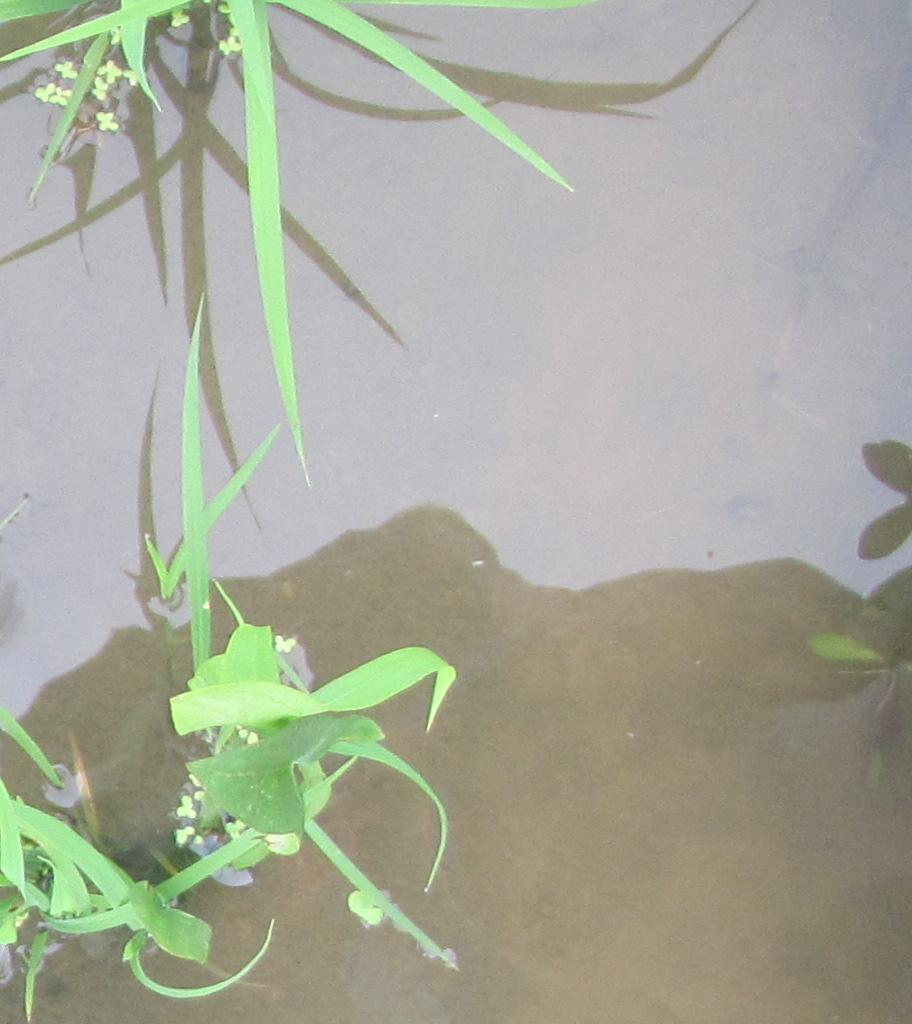Weed: (161, 628, 347, 847)
